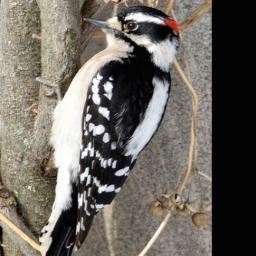Woodpecker: (36, 4, 180, 256)
